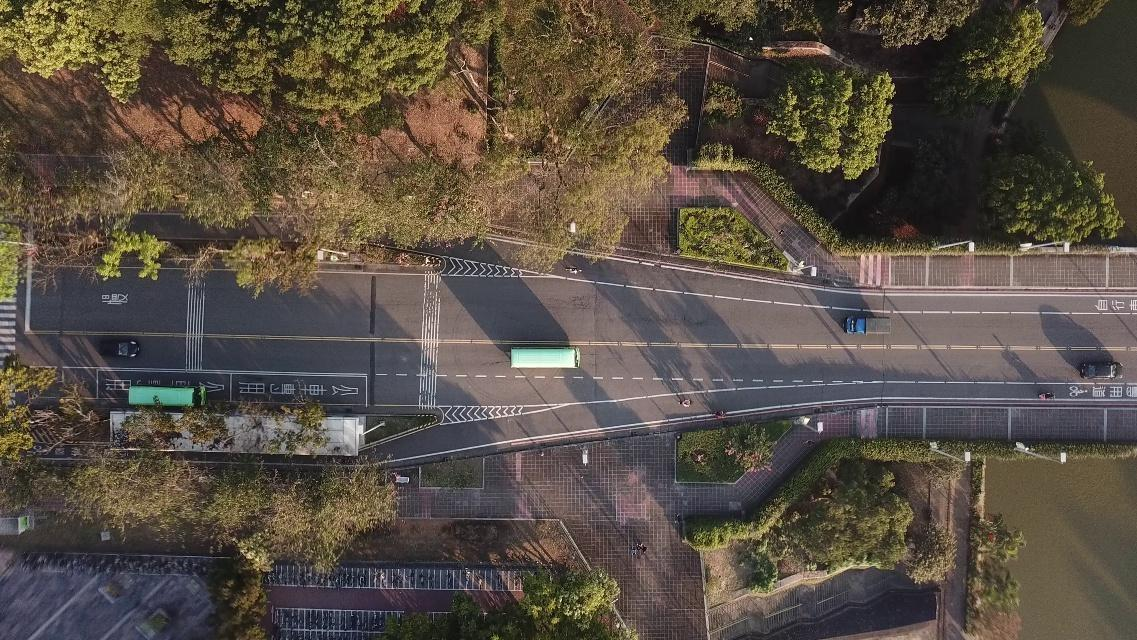Bus: (127, 384, 205, 405), (509, 345, 580, 367)
Car: (98, 337, 144, 362), (1080, 359, 1127, 381)
